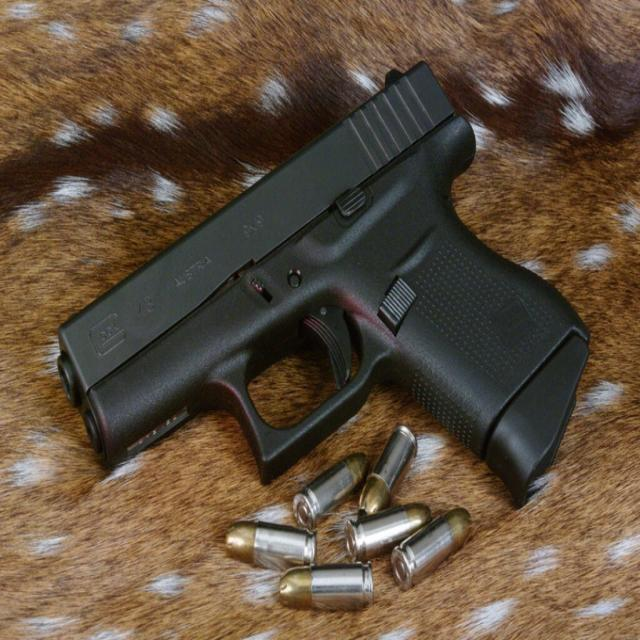HandGun: (52, 63, 591, 512)
